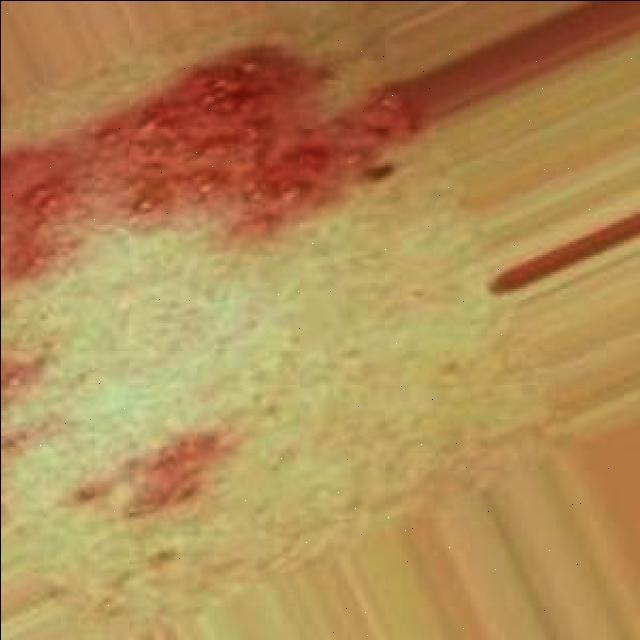Shingles: (0, 43, 412, 280), (67, 424, 236, 520)
